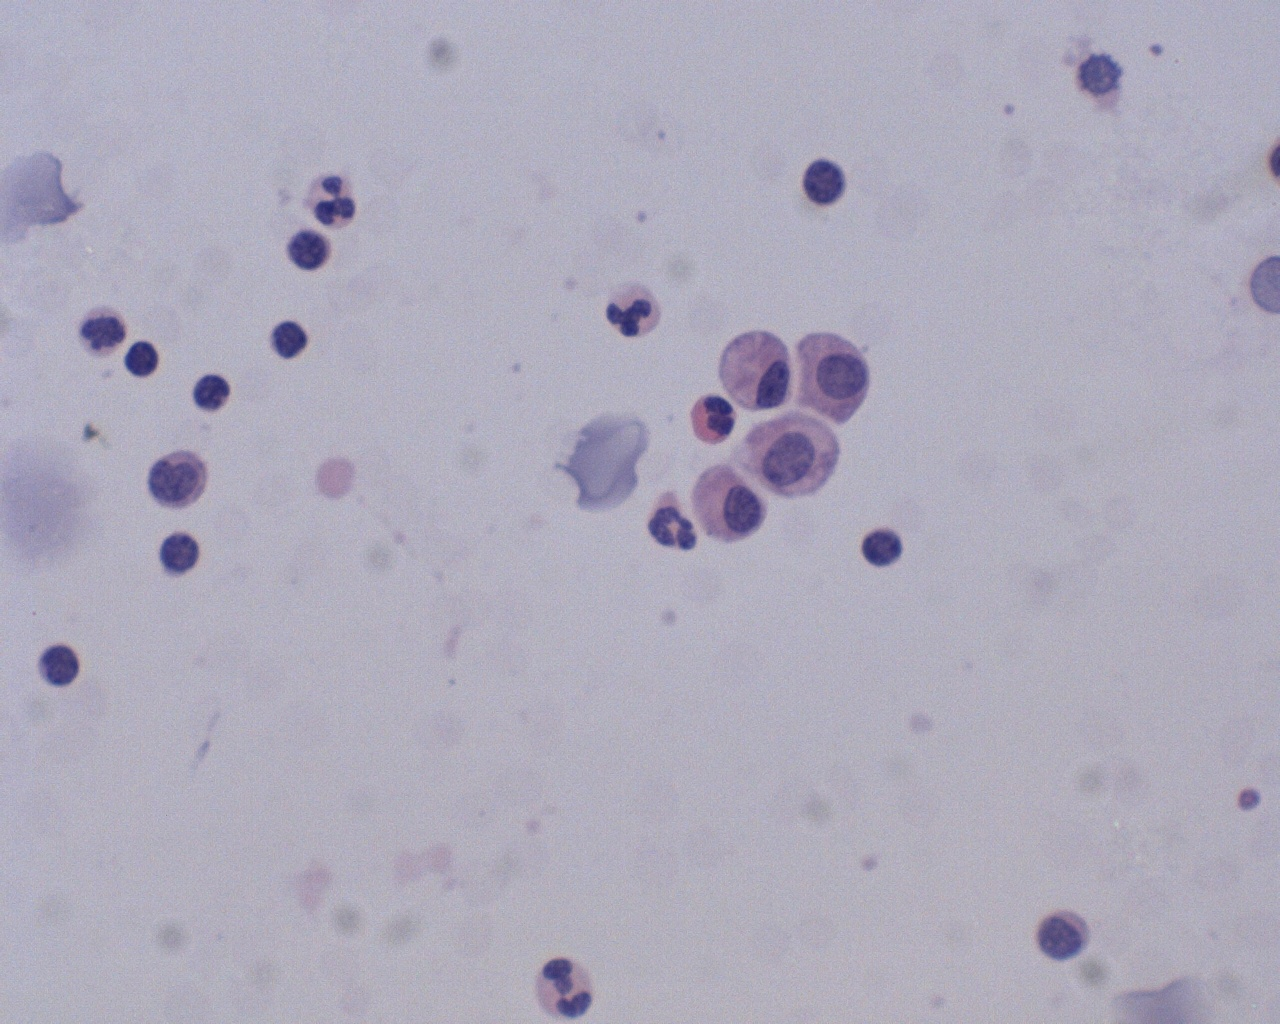ab: (686, 460, 767, 537)
lymph: (266, 312, 309, 369), (119, 338, 161, 378)
meso: (795, 323, 895, 434), (715, 326, 801, 415)
neutro: (526, 951, 604, 1021), (300, 169, 363, 237), (602, 278, 661, 338)
